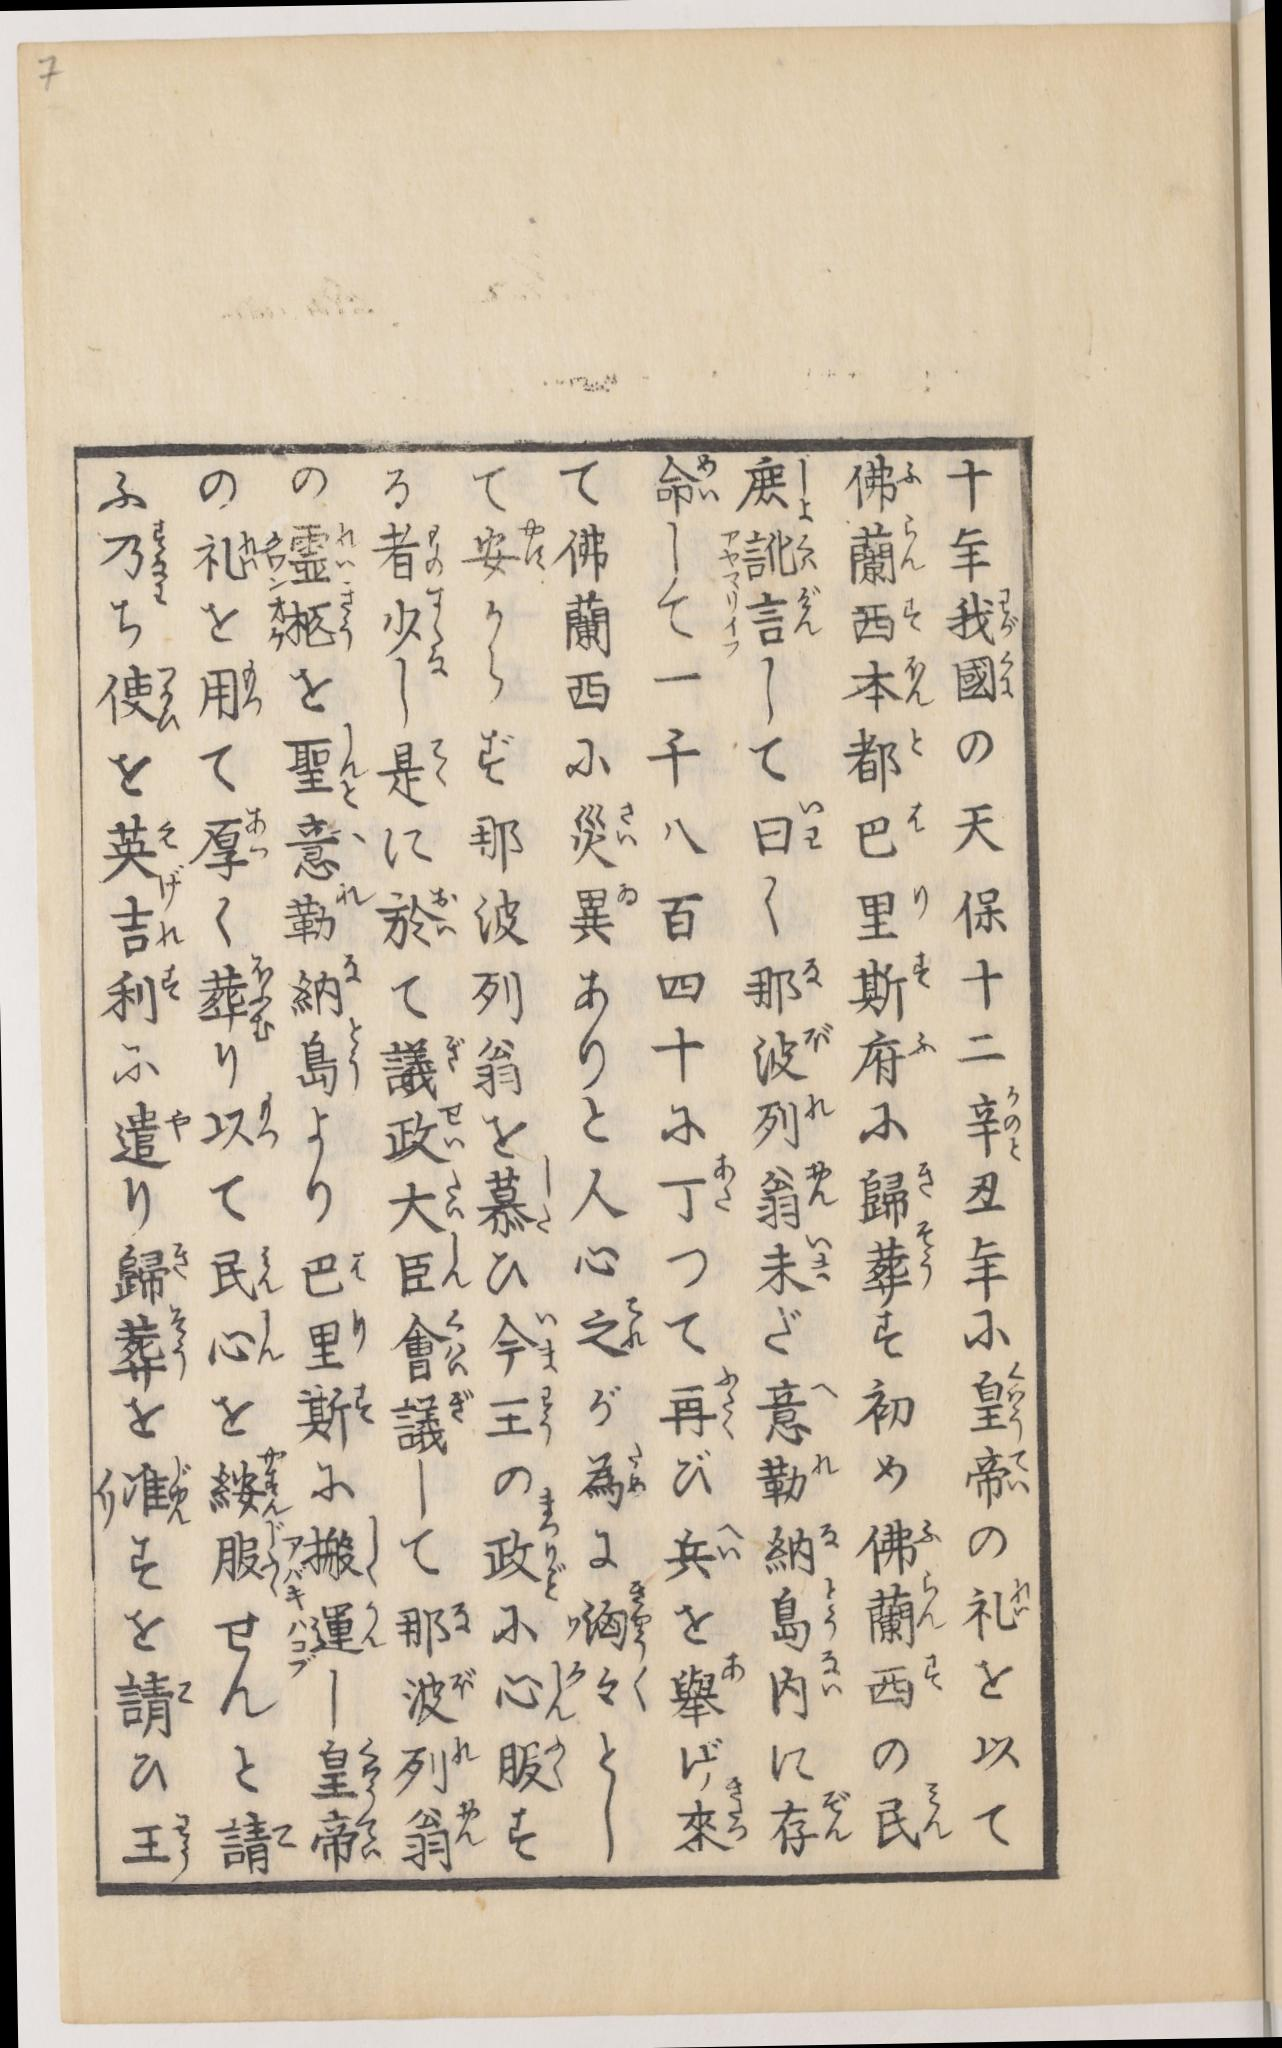MainZone-Character: (476, 1485, 573, 1604), (371, 583, 456, 690), (282, 716, 374, 812), (93, 812, 186, 904), (474, 1155, 567, 1243), (93, 1450, 198, 1527), (93, 656, 185, 741), (396, 1796, 493, 1874), (761, 1645, 851, 1729), (196, 954, 279, 1045), (99, 515, 177, 611), (741, 1011, 836, 1090), (861, 1568, 950, 1649), (388, 1381, 479, 1460), (861, 1223, 944, 1307), (120, 1803, 208, 1881), (653, 1150, 740, 1229), (202, 1513, 281, 1601), (733, 450, 821, 526), (92, 960, 188, 1029), (576, 1291, 657, 1372), (281, 812, 374, 883), (759, 1370, 845, 1447), (871, 1778, 959, 1853), (752, 1155, 837, 1230), (301, 1515, 387, 1590), (393, 1307, 479, 1382), (388, 1661, 477, 1733), (378, 1032, 467, 1104), (106, 1667, 196, 1738), (675, 1778, 755, 1858), (377, 734, 458, 812), (106, 1099, 188, 1177), (193, 805, 276, 882), (213, 1804, 297, 1880), (843, 514, 929, 588), (307, 1589, 393, 1663), (278, 880, 368, 949), (580, 1581, 660, 1660), (563, 794, 638, 877), (103, 1308, 188, 1382), (205, 1444, 289, 1518), (762, 1574, 848, 1646), (848, 796, 935, 867), (772, 1790, 860, 1860), (300, 1731, 387, 1801), (959, 1084, 1035, 1164), (493, 1657, 576, 1731), (189, 656, 263, 738), (662, 1516, 746, 1589), (198, 1094, 291, 1159), (390, 1598, 479, 1666), (292, 1017, 369, 1096), (388, 1735, 484, 1797), (851, 1026, 936, 1096), (749, 1231, 836, 1299), (375, 883, 456, 955), (848, 948, 930, 1019), (845, 650, 935, 715), (852, 1159, 939, 1226), (673, 1649, 750, 1725), (380, 1100, 468, 1165), (843, 722, 928, 790), (746, 577, 826, 648), (289, 1378, 371, 1447), (105, 1237, 189, 1304), (284, 954, 369, 1019), (961, 1575, 1035, 1651), (665, 1369, 741, 1441), (577, 1443, 654, 1515), (468, 517, 548, 586), (388, 1166, 468, 1234), (750, 1446, 837, 1508), (198, 1307, 285, 1369), (481, 1381, 563, 1447), (486, 1304, 560, 1376), (310, 1803, 388, 1871), (492, 1733, 572, 1800), (854, 877, 935, 942), (282, 588, 363, 653), (863, 1651, 950, 1711), (963, 1355, 1028, 1435), (393, 1234, 471, 1299), (964, 1437, 1035, 1508), (103, 899, 189, 957), (741, 951, 823, 1011), (284, 520, 357, 586), (842, 449, 922, 509), (750, 796, 824, 861), (561, 880, 641, 939), (858, 1512, 939, 1570), (651, 450, 728, 511), (758, 1519, 840, 1575), (750, 1091, 829, 1150), (205, 1242, 284, 1299), (945, 586, 1025, 642), (189, 527, 264, 586), (851, 594, 930, 648), (375, 520, 446, 580), (589, 1660, 659, 1719), (951, 642, 1018, 701), (744, 527, 815, 579)
MainZone-Ruby: (535, 1482, 569, 1602), (419, 583, 453, 684), (709, 1149, 744, 1226), (908, 1221, 942, 1301), (334, 722, 365, 809), (548, 1655, 583, 1731), (801, 1230, 843, 1291), (152, 818, 185, 896), (920, 1773, 956, 1844), (530, 1159, 563, 1234), (146, 512, 171, 608), (248, 955, 276, 1041), (916, 1573, 951, 1638), (445, 1308, 477, 1379), (155, 659, 183, 740), (790, 574, 824, 641), (258, 1443, 289, 1515), (165, 1307, 195, 1382), (532, 1304, 564, 1372), (1001, 1082, 1029, 1161), (415, 520, 452, 579), (1004, 1357, 1032, 1434), (168, 1450, 196, 1525), (725, 1775, 755, 1844), (440, 1236, 471, 1301), (824, 1788, 858, 1847), (805, 1159, 840, 1215), (352, 1809, 387, 1865), (629, 1577, 653, 1661), (250, 1310, 284, 1367), (799, 793, 830, 855), (899, 653, 932, 710), (1003, 1574, 1040, 1624), (238, 803, 269, 862), (331, 583, 359, 648), (357, 1516, 383, 1589), (898, 514, 926, 577), (354, 1733, 383, 1797), (263, 1515, 284, 1601), (250, 1096, 284, 1147), (168, 1804, 192, 1878), (790, 453, 815, 523), (343, 1017, 368, 1087), (430, 880, 458, 942), (256, 1242, 287, 1298), (620, 1292, 648, 1354), (715, 1367, 738, 1440), (357, 1598, 387, 1655), (450, 1798, 483, 1847), (693, 453, 721, 508), (239, 657, 261, 725), (521, 518, 549, 571), (440, 1166, 468, 1220), (332, 517, 357, 576), (820, 1577, 842, 1643), (818, 1646, 845, 1701), (440, 1100, 468, 1152), (629, 1658, 654, 1716), (446, 1663, 481, 1702), (719, 1646, 752, 1689), (995, 641, 1018, 703), (446, 1599, 477, 1643), (715, 1519, 743, 1567), (805, 1019, 840, 1056), (1006, 1443, 1031, 1494), (448, 1385, 477, 1428), (347, 1376, 372, 1426), (799, 1085, 830, 1125), (442, 1025, 467, 1073), (428, 732, 452, 784), (267, 1812, 295, 1855), (907, 1028, 938, 1066), (995, 588, 1019, 638), (544, 1736, 566, 1790), (910, 1158, 938, 1199), (536, 1384, 557, 1438), (894, 450, 922, 490), (808, 1376, 842, 1409), (901, 595, 928, 636), (616, 797, 637, 851), (158, 957, 183, 1000), (160, 1102, 185, 1144), (340, 949, 366, 989), (793, 954, 823, 989), (925, 1652, 950, 1694), (628, 1443, 645, 1500), (910, 949, 932, 995), (173, 1237, 195, 1283), (179, 1674, 202, 1717), (160, 917, 188, 952), (331, 883, 366, 911), (344, 818, 372, 852), (808, 1446, 837, 1477), (450, 1736, 479, 1769), (907, 794, 926, 842), (911, 880, 932, 921), (904, 724, 926, 762), (914, 1513, 939, 1544), (233, 523, 257, 555), (817, 1516, 837, 1552), (796, 529, 814, 568), (616, 882, 635, 907)
